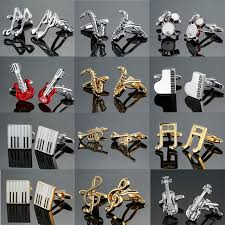Saxophone: (75, 61, 155, 111)
